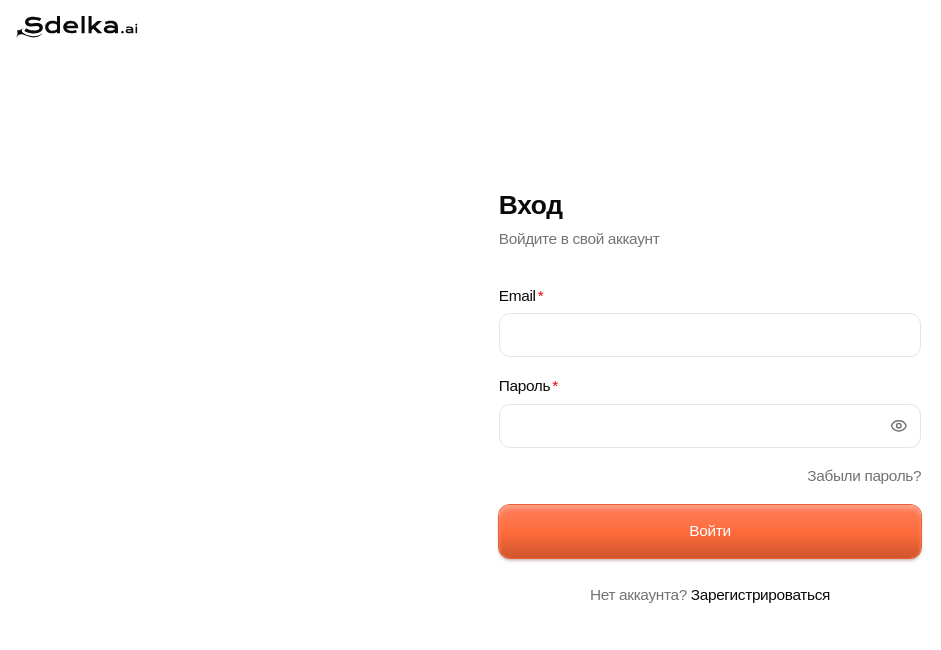
Test: LoginPage › shows Russian invalid_credentials error on bad password
Type "a@b.com" into the field labelled "Email" at (710, 335), box [499,313,921,357]
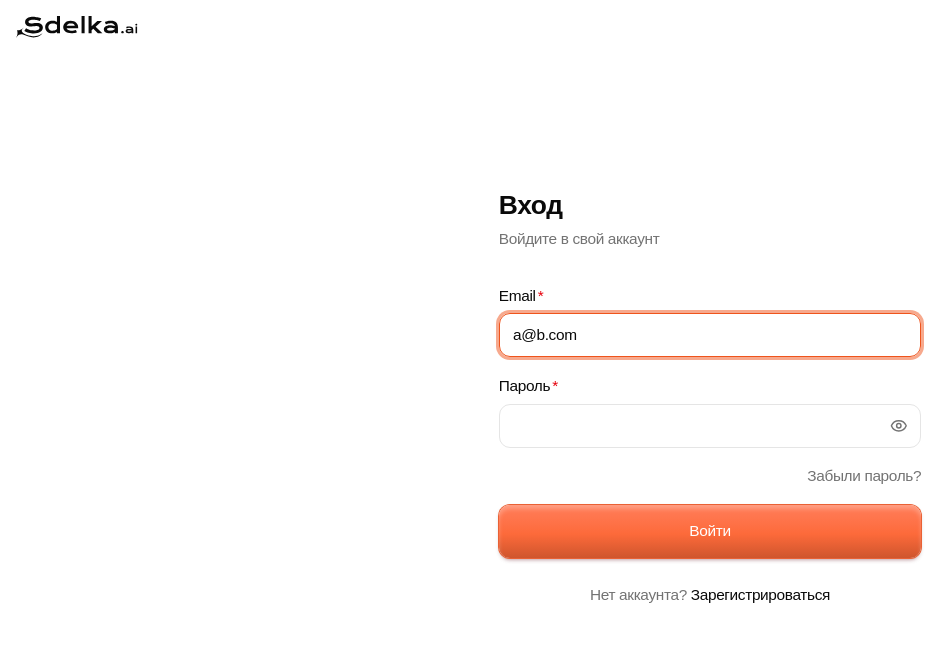
Type "wrong-password" into the password field labelled "Пароль" at (710, 426), box [499,404,921,448]
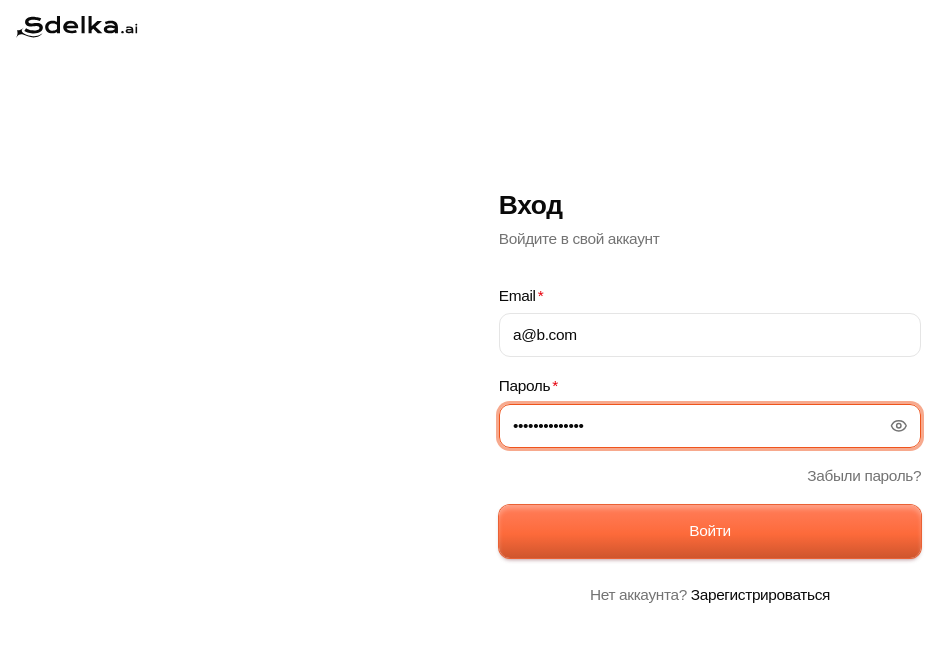
Click the button "Войти" at (710, 531), box [499,505,921,558]
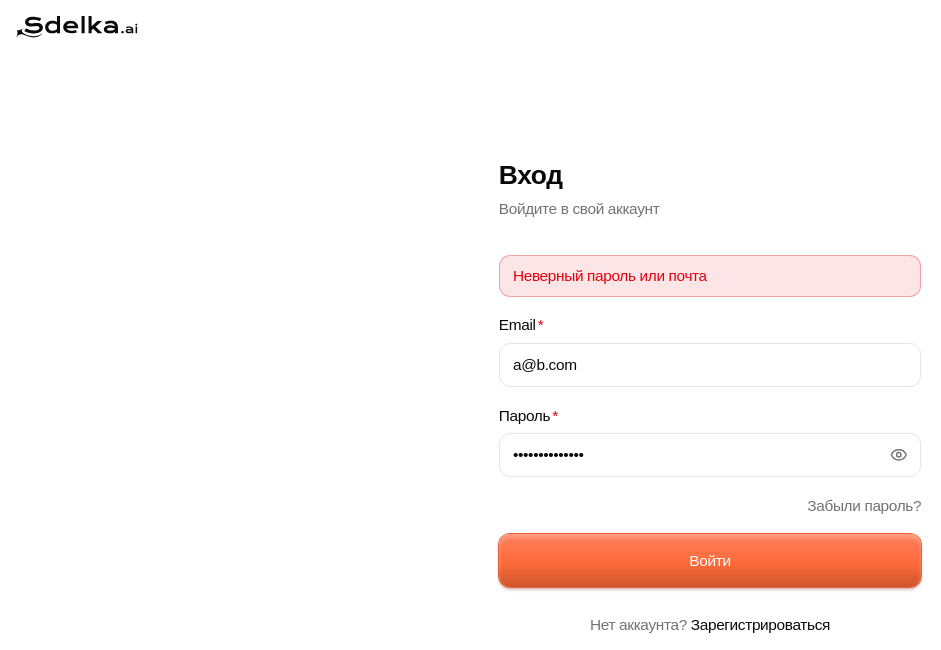
Result: the text "Неверный пароль или почта" is shown at [499,255,921,297]
